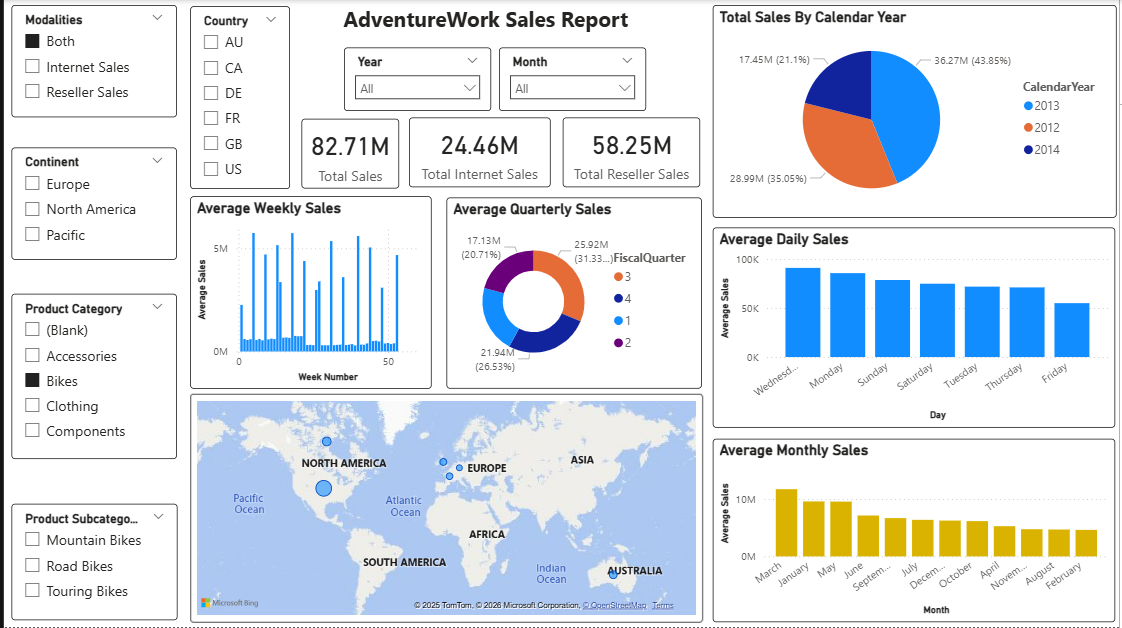

The dashboard page shown, as its layout file describes it:
{"tool":"powerbi","page":{"name":"Page 1","canvas":[1280,720],"ordinal":0},"visuals":[{"type":"slicer","fields":{"Values":["ModalitySelector.Modality"]},"box":[8.6,5.7,189.2,129],"z":0},{"type":"slicer","title":"Year","fields":{"Values":["DimDate.CalendarYear","DimDate.EnglishMonthName"]},"box":[390,54.5,169.2,73.1],"z":1000},{"type":"pieChart","title":"Total Sales By Calendar Year","fields":{"Category":["DimDate.CalendarYear"],"Y":["FactInternetSales.DynamicTotalSales"]},"box":[812.9,5.7,463.1,243.7],"z":2000},{"type":"columnChart","title":"Average Monthly Sales ","fields":{"Y":["FactInternetSales.Average Monthly Sales"],"Category":["DimDate.EnglishMonthName"]},"box":[812.9,503.2,461.7,210.8],"z":5000},{"type":"map","fields":{"Category":["DimSalesTerritory.SalesTerritoryCountry"],"Size":["FactInternetSales.DynamicTotalSales"]},"box":[213.6,451.6,587.8,262.4],"z":6000},{"type":"slicer","fields":{"Values":["DimProduct.ProductcategoryCode"]},"box":[8.6,336.9,189.2,189.2],"z":7000},{"type":"slicer","title":"Month","fields":{"Values":["DimDate.EnglishMonthName"]},"box":[567.7,54.5,169.2,73.1],"z":8000},{"type":"slicer","fields":{"Values":["DimSalesTerritory.SalesTerritoryGroup"]},"box":[8.6,169.2,189.2,129],"z":9000},{"type":"slicer","fields":{"Values":["DimProduct.ProductSubcategoryCode"]},"box":[8.6,577.8,190.7,133.3],"z":10000},{"type":"columnChart","title":"Average Daily Sales ","fields":{"Y":["FactInternetSales.Average Daily Sales"],"Category":["DimDate.EnglishDayNameOfWeek"]},"box":[812.9,260.9,461.7,229.4],"z":11000},{"type":"columnChart","title":"Average Weekly Sales ","fields":{"Y":["FactInternetSales.Average Weekly Sales"],"Category":["DimDate.WeekNumberOfYear"]},"box":[213.6,225.1,276.7,220.8],"z":12000},{"type":"donutChart","title":"Average Quarterly Sales","fields":{"Y":["FactInternetSales.Average Quarterly Sales"],"Category":["DimDate.FiscalQuarter"]},"box":[507.5,226.5,292.5,219.4],"z":13000},{"type":"textbox","box":[384.2,0,352.7,44.4],"z":13001},{"type":"slicer","title":"Country","fields":{"Values":["DimSalesTerritory.SalesTerritoryCountry"]},"box":[213.6,7.2,114.7,209.3],"z":13003},{"type":"card","fields":{"Values":["FactInternetSales.Total Sales"]},"box":[464.5,134.8,162,80.3],"z":13004},{"type":"card","fields":{"Values":["FactInternetSales.DynamicTotalSales"]},"box":[341.2,136.2,111.8,80.3],"z":13005},{"type":"card","fields":{"Values":["FactResellerSales.Total Reseller Sales"]},"box":[640.9,134.8,157.7,80.3],"z":13006}]}

Visuals, with their boxes in screenshot pixels (x1, y1, x2, y2), scaled from the page's 1280x720 canvas onto the 1122x628 screenshot:
slicer - ModalitySelector.Modality: bbox=[8, 5, 173, 117]
"Year" slicer: bbox=[342, 48, 490, 111]
"Total Sales By Calendar Year" pieChart: bbox=[713, 5, 1118, 218]
"Average Monthly Sales " columnChart: bbox=[713, 439, 1117, 623]
map - DimSalesTerritory.SalesTerritoryCountry x FactInternetSales.DynamicTotalSales: bbox=[187, 394, 702, 623]
slicer - DimProduct.ProductcategoryCode: bbox=[8, 294, 173, 459]
"Month" slicer: bbox=[498, 48, 646, 111]
slicer - DimSalesTerritory.SalesTerritoryGroup: bbox=[8, 148, 173, 260]
slicer - DimProduct.ProductSubcategoryCode: bbox=[8, 504, 175, 620]
"Average Daily Sales " columnChart: bbox=[713, 228, 1117, 428]
"Average Weekly Sales " columnChart: bbox=[187, 196, 430, 389]
"Average Quarterly Sales" donutChart: bbox=[445, 198, 701, 389]
textbox: bbox=[337, 0, 646, 39]
"Country" slicer: bbox=[187, 6, 288, 189]
card - FactInternetSales.Total Sales: bbox=[407, 118, 549, 188]
card - FactInternetSales.DynamicTotalSales: bbox=[299, 119, 397, 189]
card - FactResellerSales.Total Reseller Sales: bbox=[562, 118, 700, 188]
